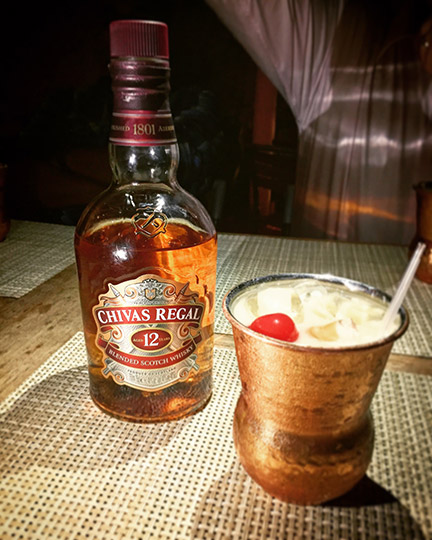Chivas Regal: (70, 17, 220, 428)
